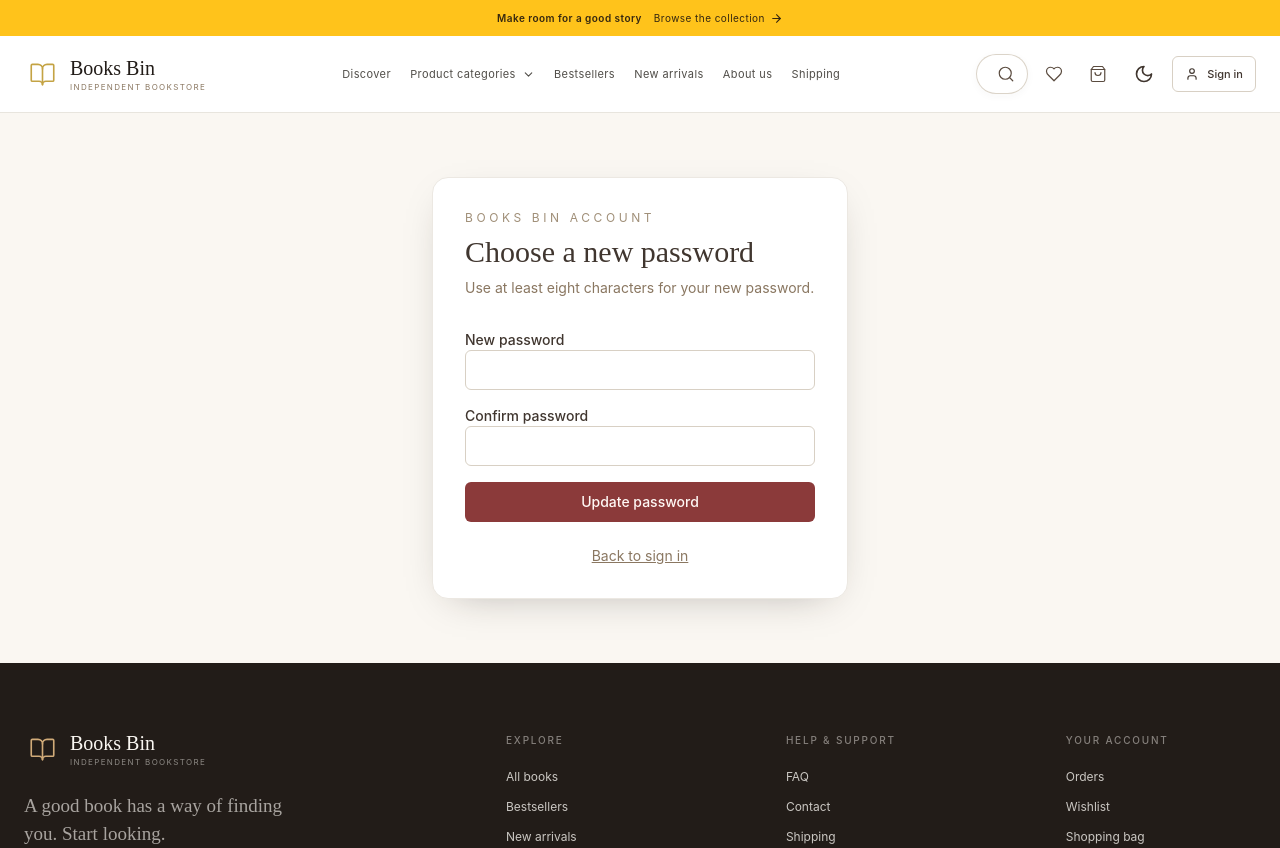
public password reset flow › loads reset-password directly while signed out and resets a valid link
The image size is (1280, 848).
Expected: the heading "Choose a new password" is shown, 465,235 -> 754,268
Type "new-password" into the password field labelled "New password" at (640, 370), box 465,350 -> 815,390
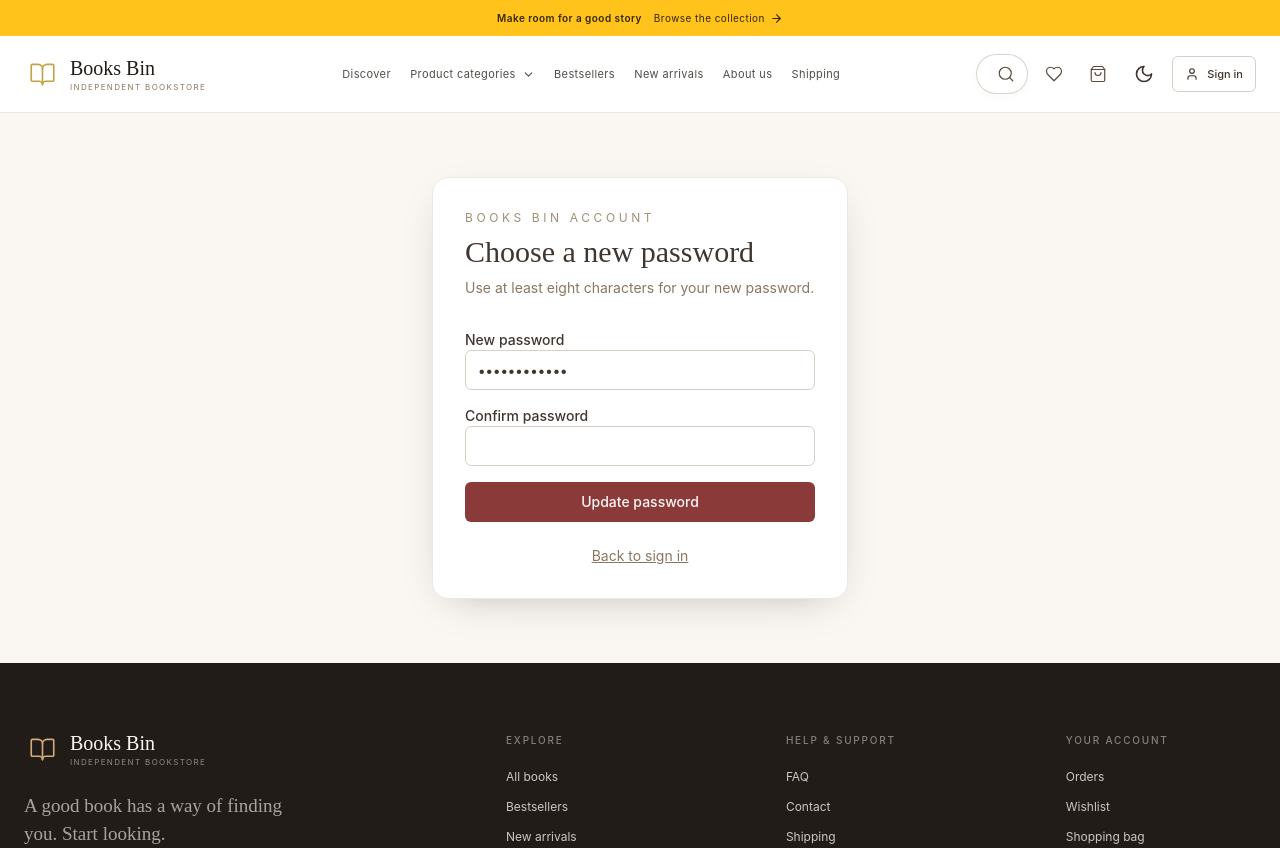
Type "new-password" into the password field labelled "Confirm password" at (640, 446), box 465,426 -> 815,466
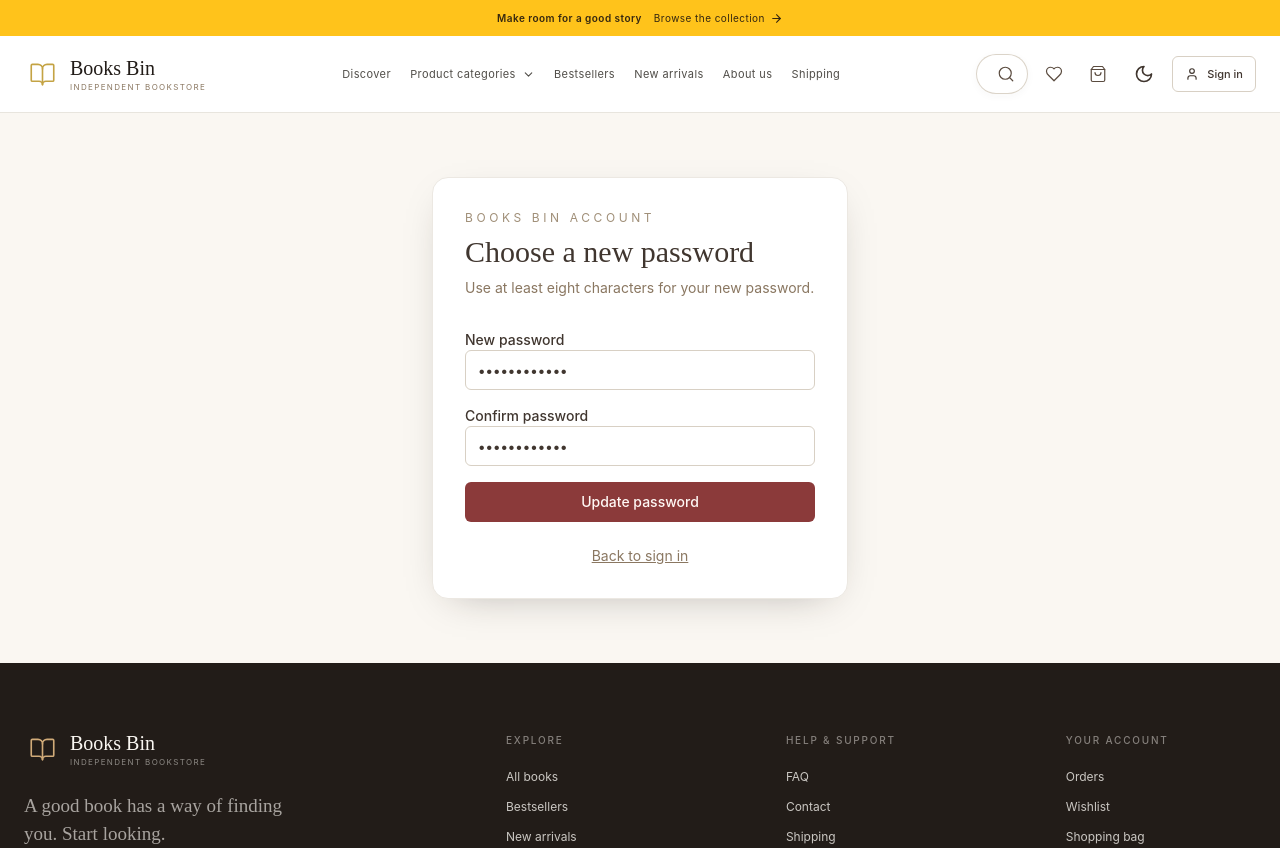
Click the button "Update password" at (640, 502), box 465,482 -> 815,522
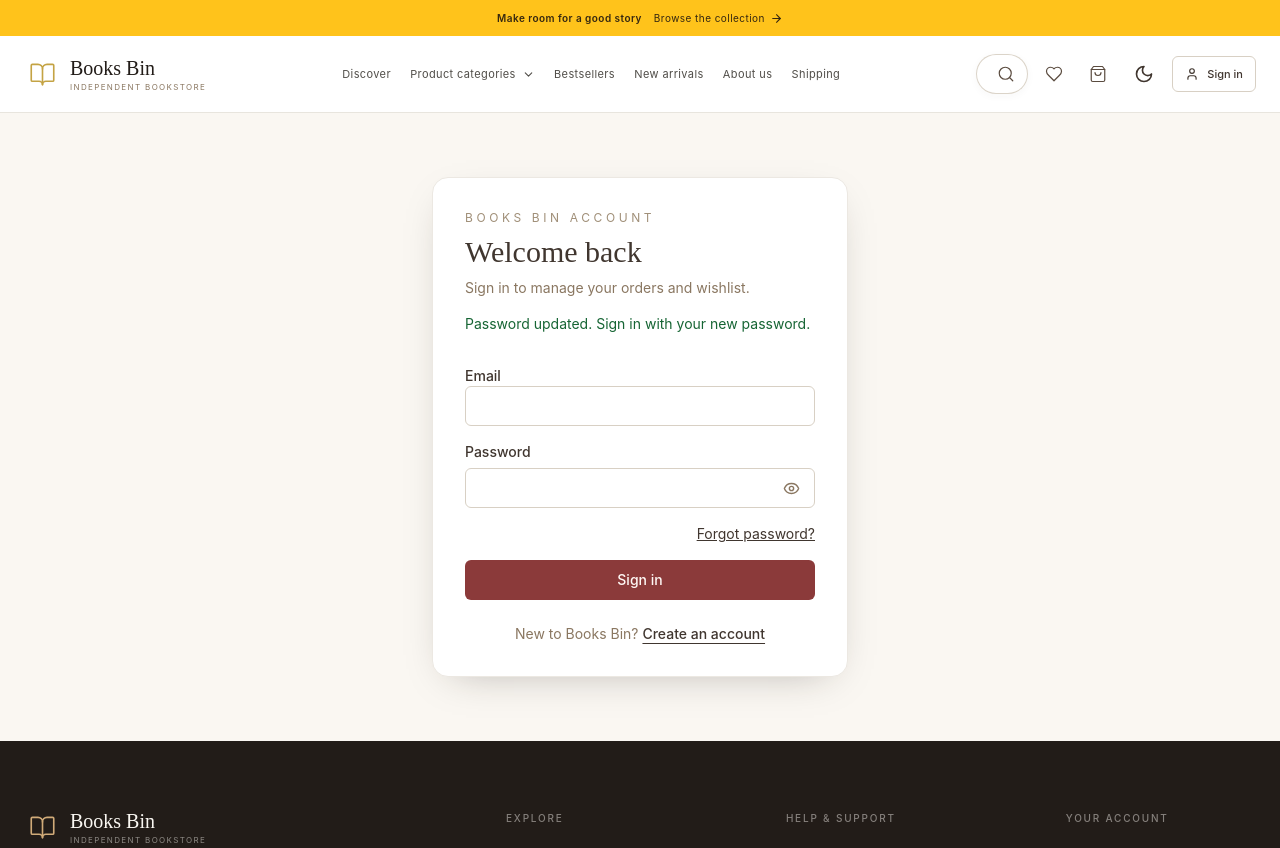
Now the heading "Welcome back" is shown, box 465,235 -> 642,268
